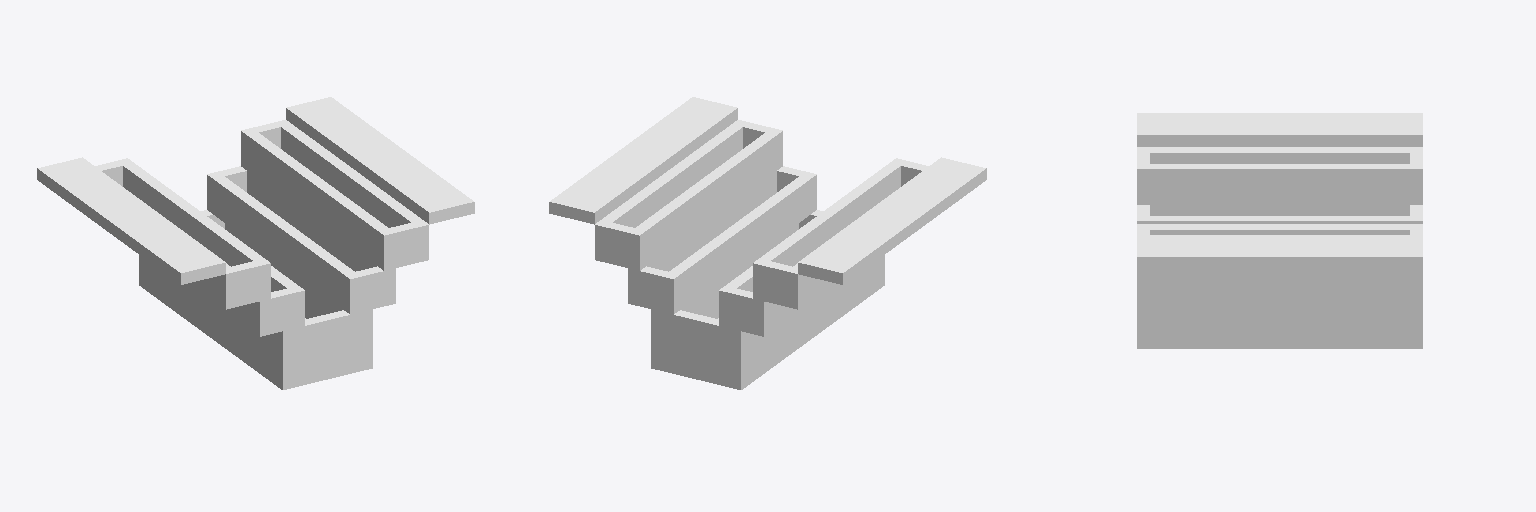
The model's file is toolbox.obj.
3 views of the same model, side by side, from view 1: azimuth 30°, elevation 25°; view 2: azimuth 150°, elevation 25°; view 3: azimuth 270°, elevation 25° (orthographic).
Visible parts, largest first — view 1: object 1; view 2: object 1; view 3: object 1.
Boxes of the visible parts, x1,y1,x2,y2 form: object 1: [37, 97, 474, 389]; object 1: [549, 97, 986, 389]; object 1: [1137, 113, 1422, 348].
Bounding box in the file's own units: 2.6 × 1.2 × 2.2.